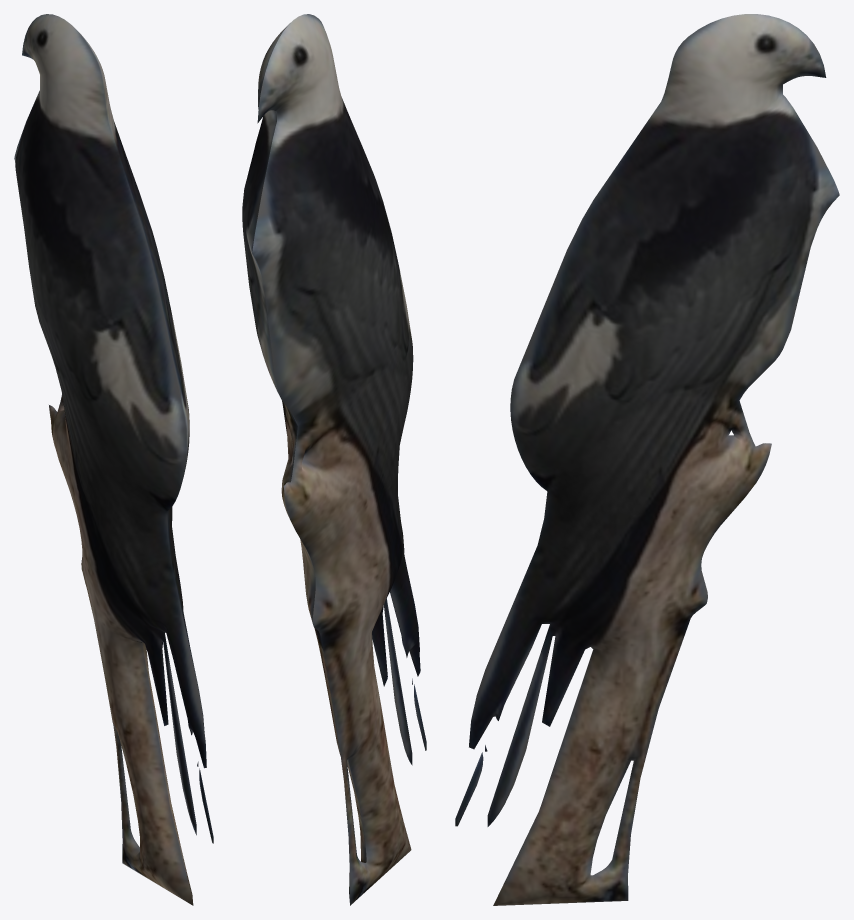
Rendered from elanoides.gltf.
The picture shows the model from 3 angles, left to right: view 1: azimuth 30°, elevation 25°; view 2: azimuth 150°, elevation 25°; view 3: azimuth 270°, elevation 25°; orthographic projection. The views are drawn at different scales.
Parts seen in each view (by area): view 1: node1; view 2: node1; view 3: node1.
Part boxes in pixels (<box>): node1: <box>14,14,213,905</box>; node1: <box>242,14,426,905</box>; node1: <box>455,14,839,905</box>.
Size of the model in its own units: 0.1663 by 1.27 by 0.4984.
Materials: 1 (1 with a texture image).
